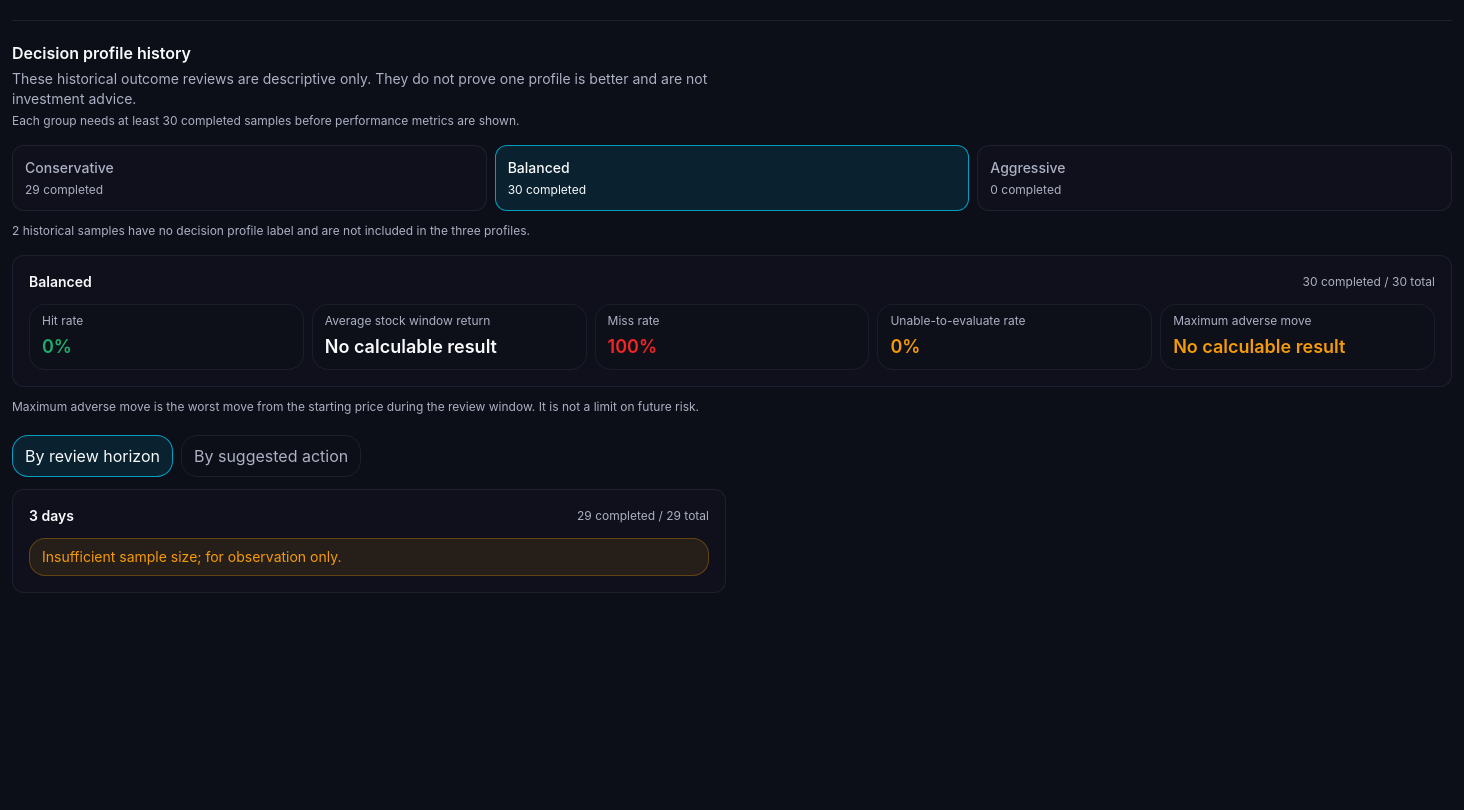
DecisionSignalProfileCalibration › switches only between the two frozen user-facing breakdown views
What coordinates should you click on to do the following:
click the button "By suggested action"
I would click on:
 (271, 456)
Its box is [181, 435, 361, 477].
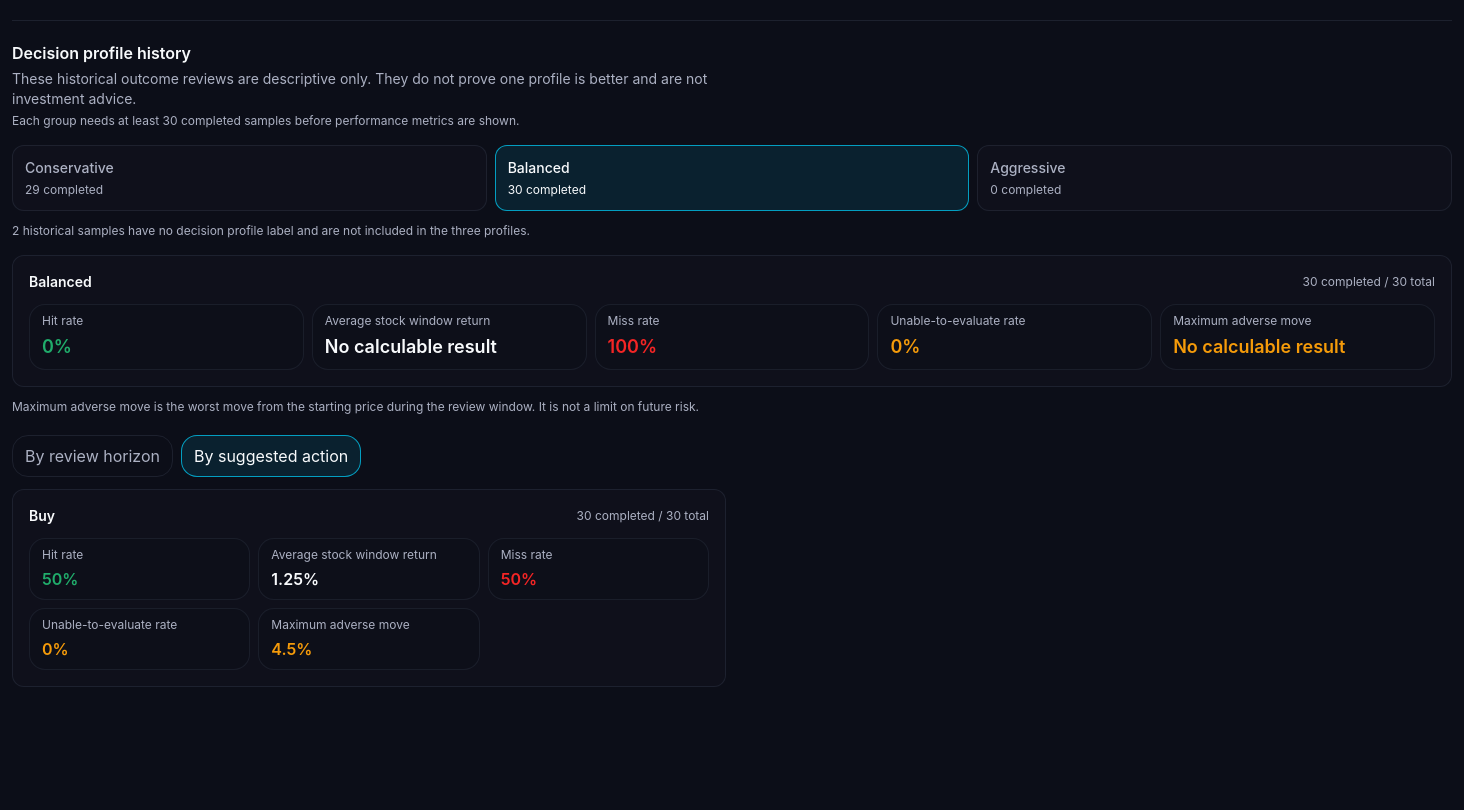
Expected: the heading "Buy" is shown, [29, 506, 55, 526]
Expected: the heading "3 days" is gone
